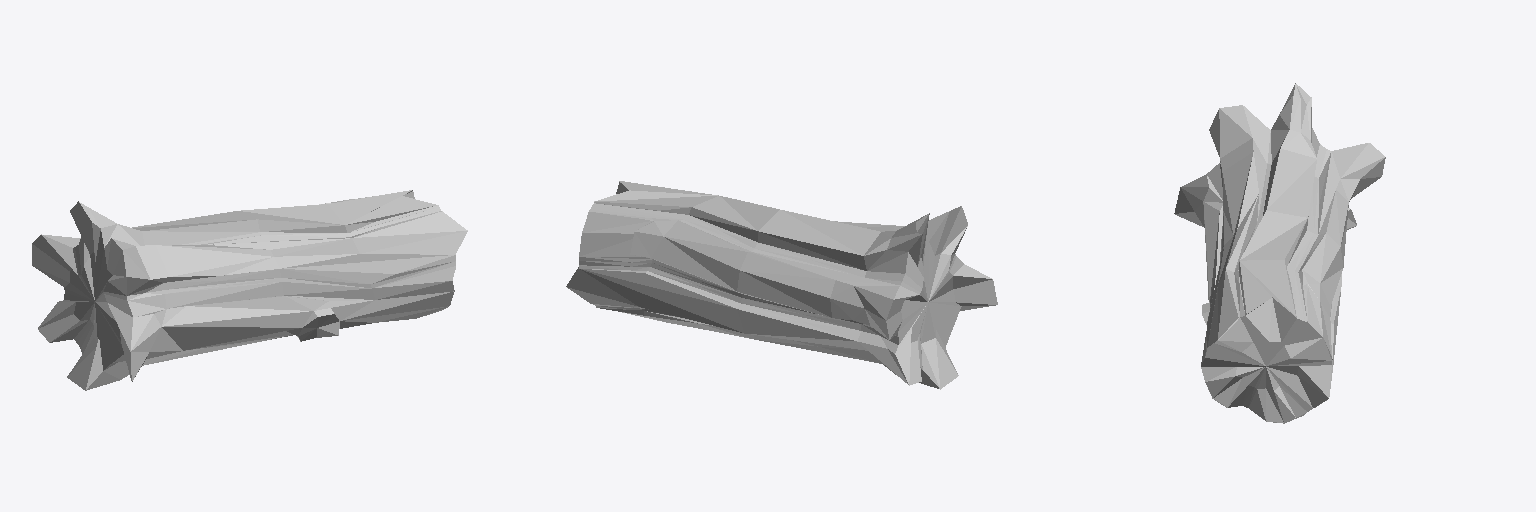
File: tree_fallen_02.obj
3 renders of one model, left to right at view 1: azimuth 30°, elevation 25°; view 2: azimuth 150°, elevation 25°; view 3: azimuth 270°, elevation 25°, orthographic.
Visible parts, largest first — view 1: tree_maple_01:MapleTree_geo_01 tree_maple_01:treeTrunk_Geo_07 tr, tree_fallen_02; view 2: tree_maple_01:MapleTree_geo_01 tree_maple_01:treeTrunk_Geo_07 tr, tree_fallen_02; view 3: tree_maple_01:MapleTree_geo_01 tree_maple_01:treeTrunk_Geo_07 tr, tree_fallen_02.
Part boxes in pixels (x1,y1,x2,y2): tree_maple_01:MapleTree_geo_01 tree_maple_01:treeTrunk_Geo_07 tr: (41, 190, 467, 390); tree_fallen_02: (32, 191, 414, 390); tree_maple_01:MapleTree_geo_01 tree_maple_01:treeTrunk_Geo_07 tr: (566, 181, 995, 388); tree_fallen_02: (616, 182, 997, 389); tree_maple_01:MapleTree_geo_01 tree_maple_01:treeTrunk_Geo_07 tr: (1174, 83, 1385, 423); tree_fallen_02: (1201, 284, 1331, 422).
Bounding box in the file's own units: 3.46 × 1.65 × 1.75.